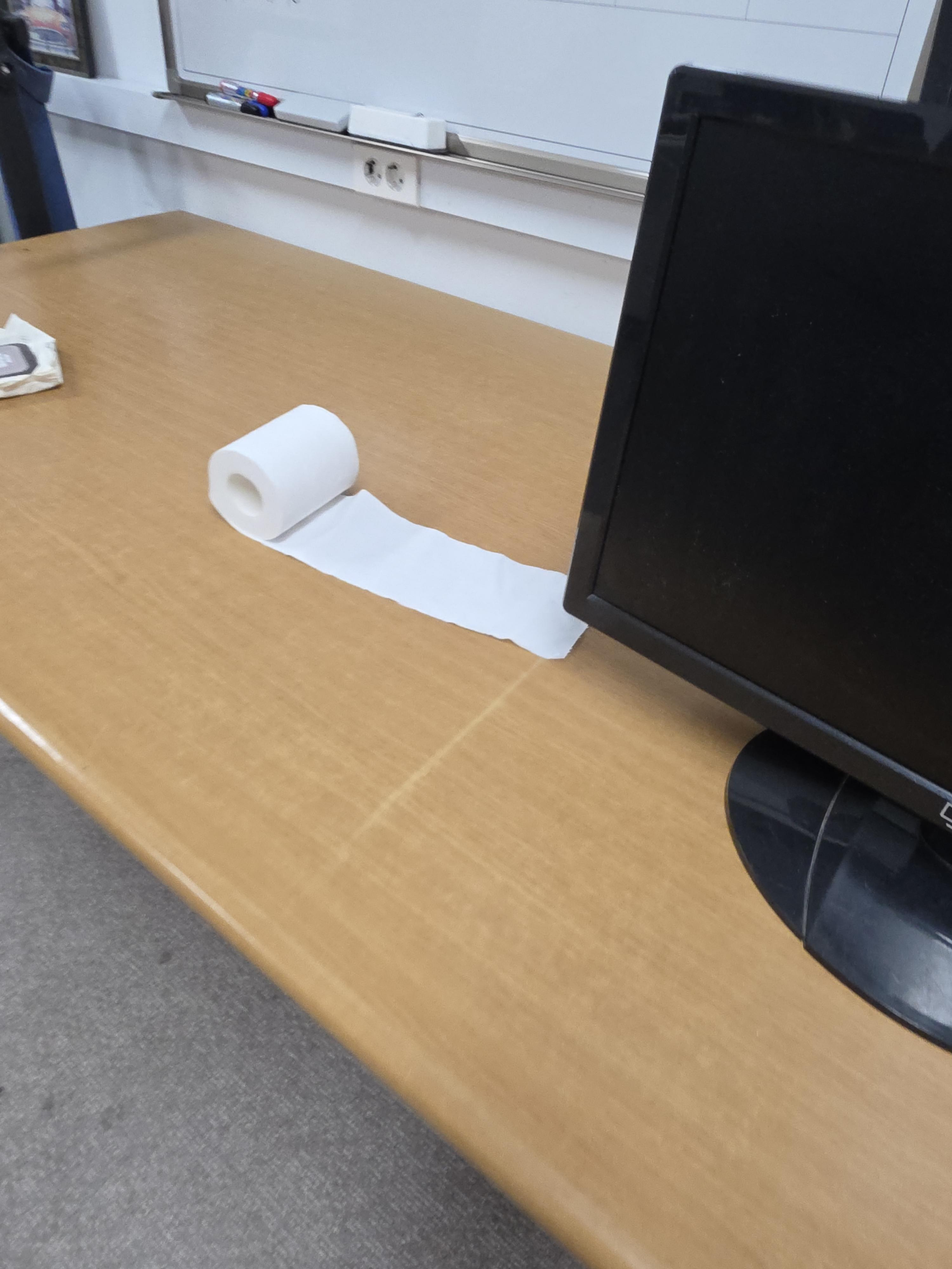tissue: (207, 403, 589, 660)
